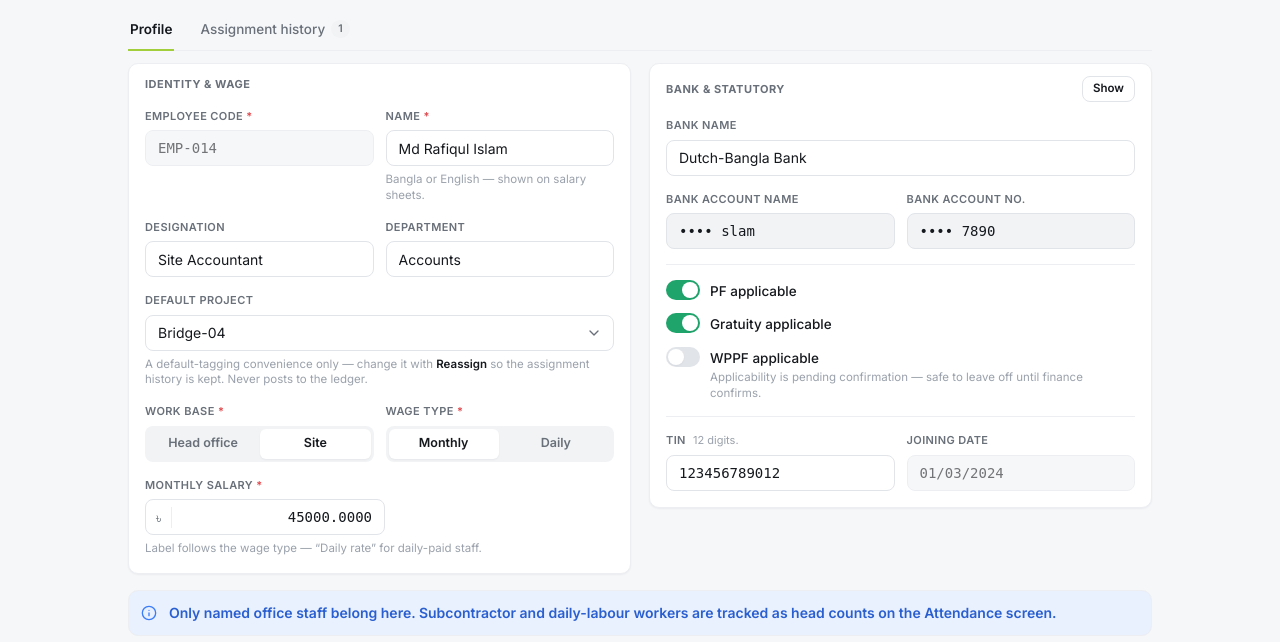
Test: EmployeeDetail (spec §5/§6/§11) › saves an edit and toasts the exact spec §8 copy
The width and height of the screenshot is (1280, 642).
Replace the text in the field with test id "emp-name" with "Rafiqul Islam Md" at (500, 148), box [386,130,614,166]
(page scrolled)
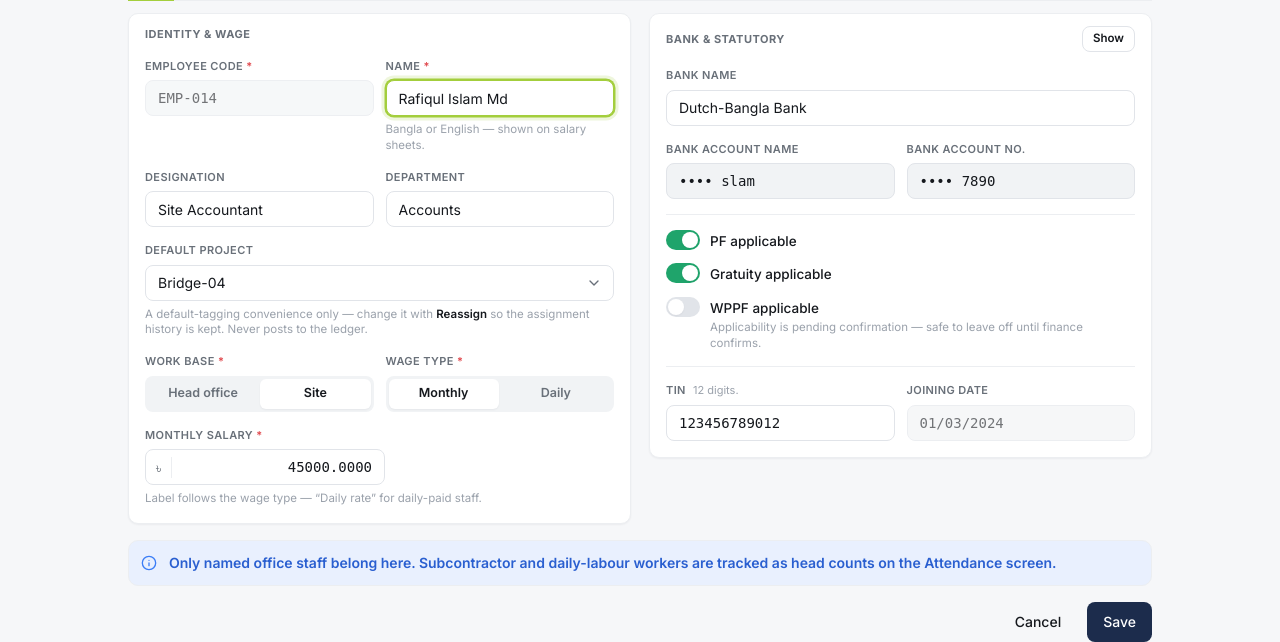
Click the button with test id "employee-save-edit" at (1120, 622), box [1087,602,1152,641]
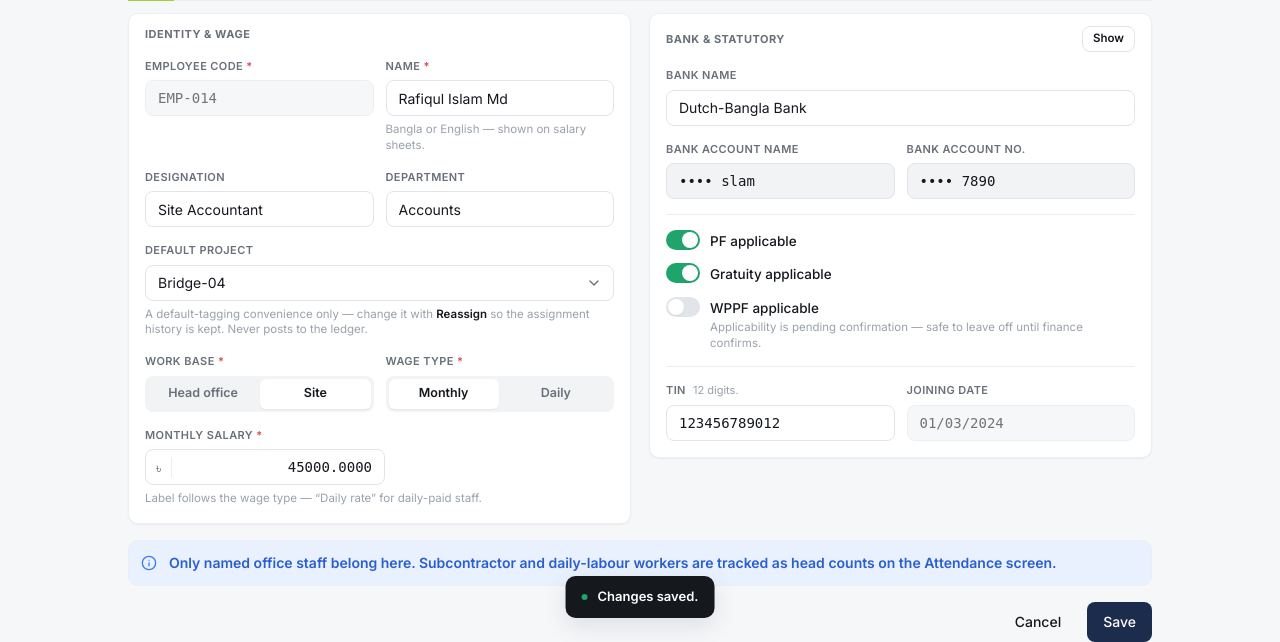
expect the text "Changes saved." is shown: met, box [598,587,698,607]
